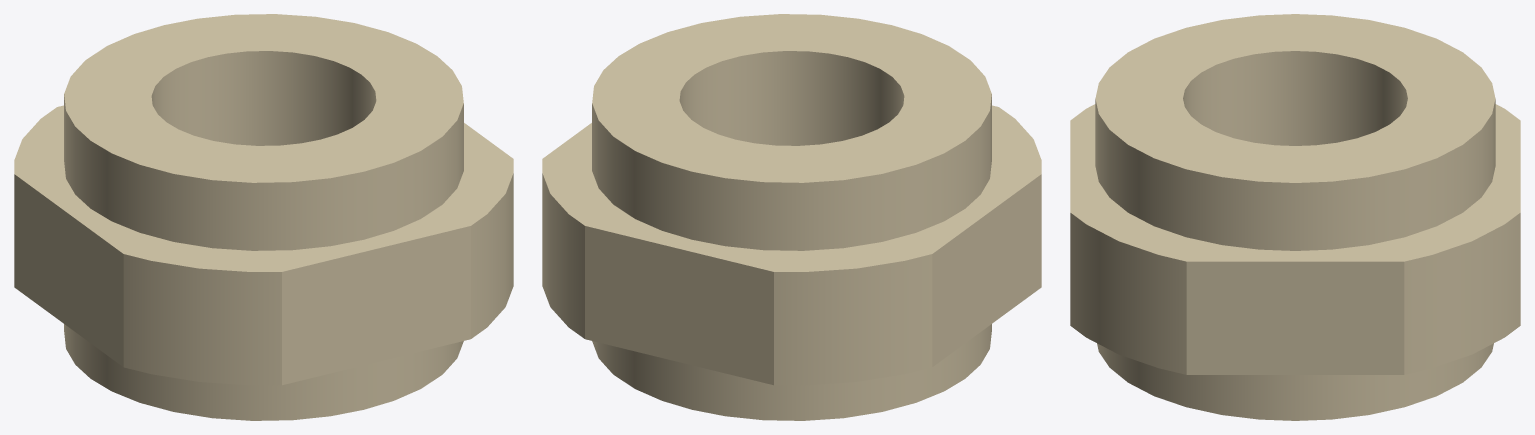
File: 05_pipe_union_nut.glb
3 renders of one model, left to right at view 1: azimuth 30°, elevation 25°; view 2: azimuth 150°, elevation 25°; view 3: azimuth 270°, elevation 25°, orthographic.
Parts seen in each view (by area): view 1: body; view 2: body; view 3: body.
Part boxes in pixels (box(x1,y1,x2,y2)): body: box(14, 14, 513, 420); body: box(542, 14, 1041, 420); body: box(1070, 14, 1520, 420).
Size of the model in its own units: 36 by 21 by 36.
